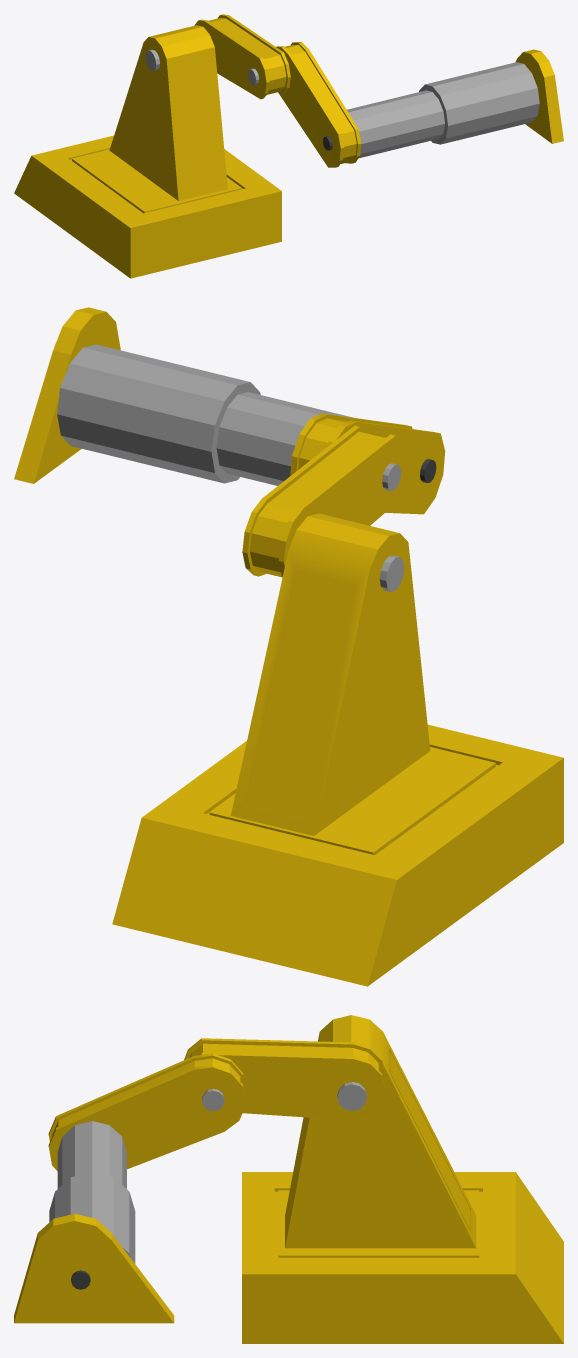
The model's file is machine_rouleau.fbx.
The picture shows the model from 3 angles, top to bottom: view 1: azimuth 30°, elevation 25°; view 2: azimuth 150°, elevation 25°; view 3: azimuth 270°, elevation 25°; orthographic projection. The views are drawn at different scales.
Parts seen in each view (by area): view 1: support1, rouleau, rotate_2, rotate_1; view 2: support1, rouleau, rotate_1, rotate_2; view 3: support1, rotate_2, rotate_1, rouleau.
Part boxes in pixels (x1,y1,x2,y2): support1: (14, 25, 563, 278); rouleau: (347, 62, 539, 158); rotate_2: (276, 42, 361, 167); rotate_1: (194, 14, 290, 99); support1: (14, 307, 563, 986); rouleau: (57, 344, 352, 485); rotate_1: (242, 425, 407, 577); rotate_2: (290, 413, 445, 514); support1: (14, 1015, 563, 1343); rotate_2: (48, 1053, 246, 1170); rotate_1: (184, 1038, 385, 1120); rouleau: (49, 1121, 135, 1289).
Size of the model in its own units: 3.61 by 2 by 3.52.
